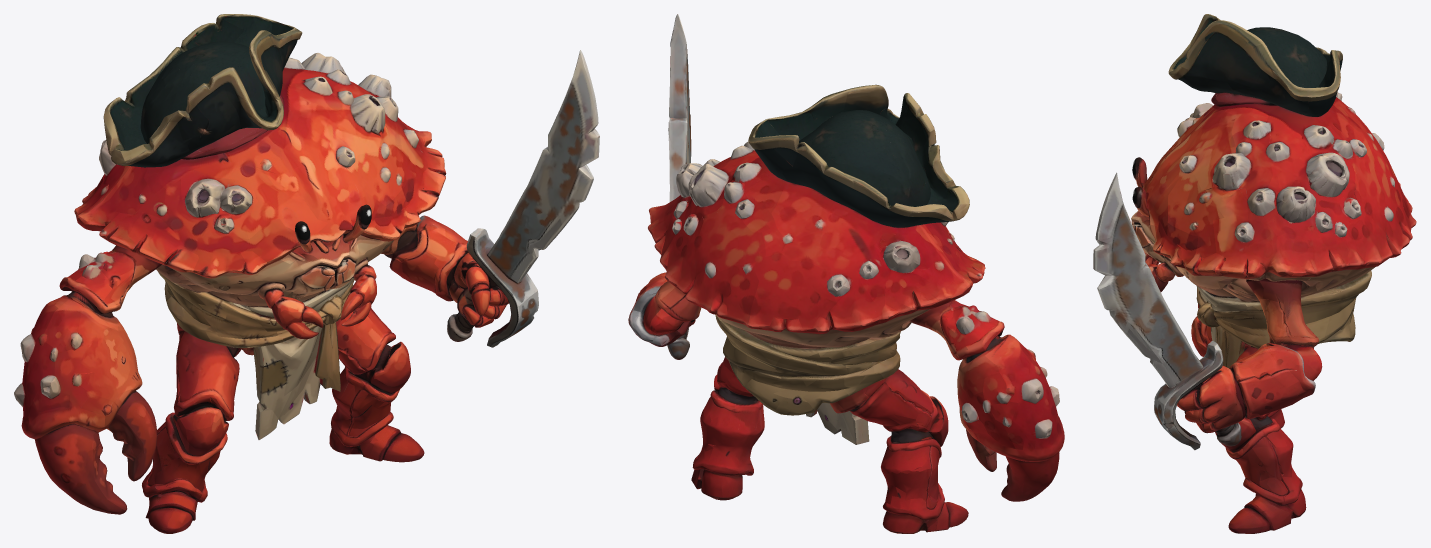
Rendered from cutthroat_raw_meshy.glb.
The picture shows the model from 3 angles, left to right: view 1: azimuth 30°, elevation 25°; view 2: azimuth 150°, elevation 25°; view 3: azimuth 270°, elevation 25°; orthographic projection. The views are drawn at different scales.
Size of the model in its own units: 1.9 by 1.68 by 1.14.
Materials: 1 (1 with a texture image).
